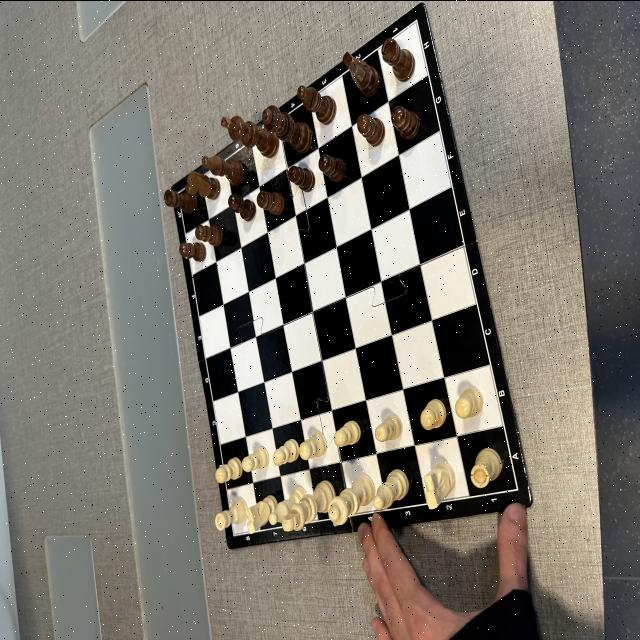Black-Bishop: (297, 84, 337, 124), (202, 154, 244, 185)
Black-King: (220, 114, 280, 158)
Black-Knight: (342, 50, 380, 96), (185, 170, 220, 200)
Black-Pawn: (390, 105, 420, 139), (357, 113, 385, 147), (318, 153, 346, 182), (228, 192, 256, 220), (256, 189, 284, 215), (288, 164, 316, 190), (195, 224, 223, 246), (178, 242, 206, 262)
Black-Queen: (262, 104, 312, 153)
Black-Rook: (382, 36, 416, 82), (164, 188, 198, 214)
White-Bishop: (268, 486, 307, 524), (373, 468, 409, 509)
White-King: (282, 478, 336, 530)
White-Knight: (424, 462, 456, 508)
White-Pawn: (455, 386, 483, 418), (299, 430, 327, 460), (421, 397, 446, 429), (272, 438, 300, 466), (374, 414, 402, 441), (334, 419, 362, 446), (215, 456, 243, 483), (242, 446, 270, 472)
White-Queen: (328, 473, 375, 525)
White-Rook: (245, 494, 278, 534), (470, 447, 502, 487), (214, 498, 248, 530)
